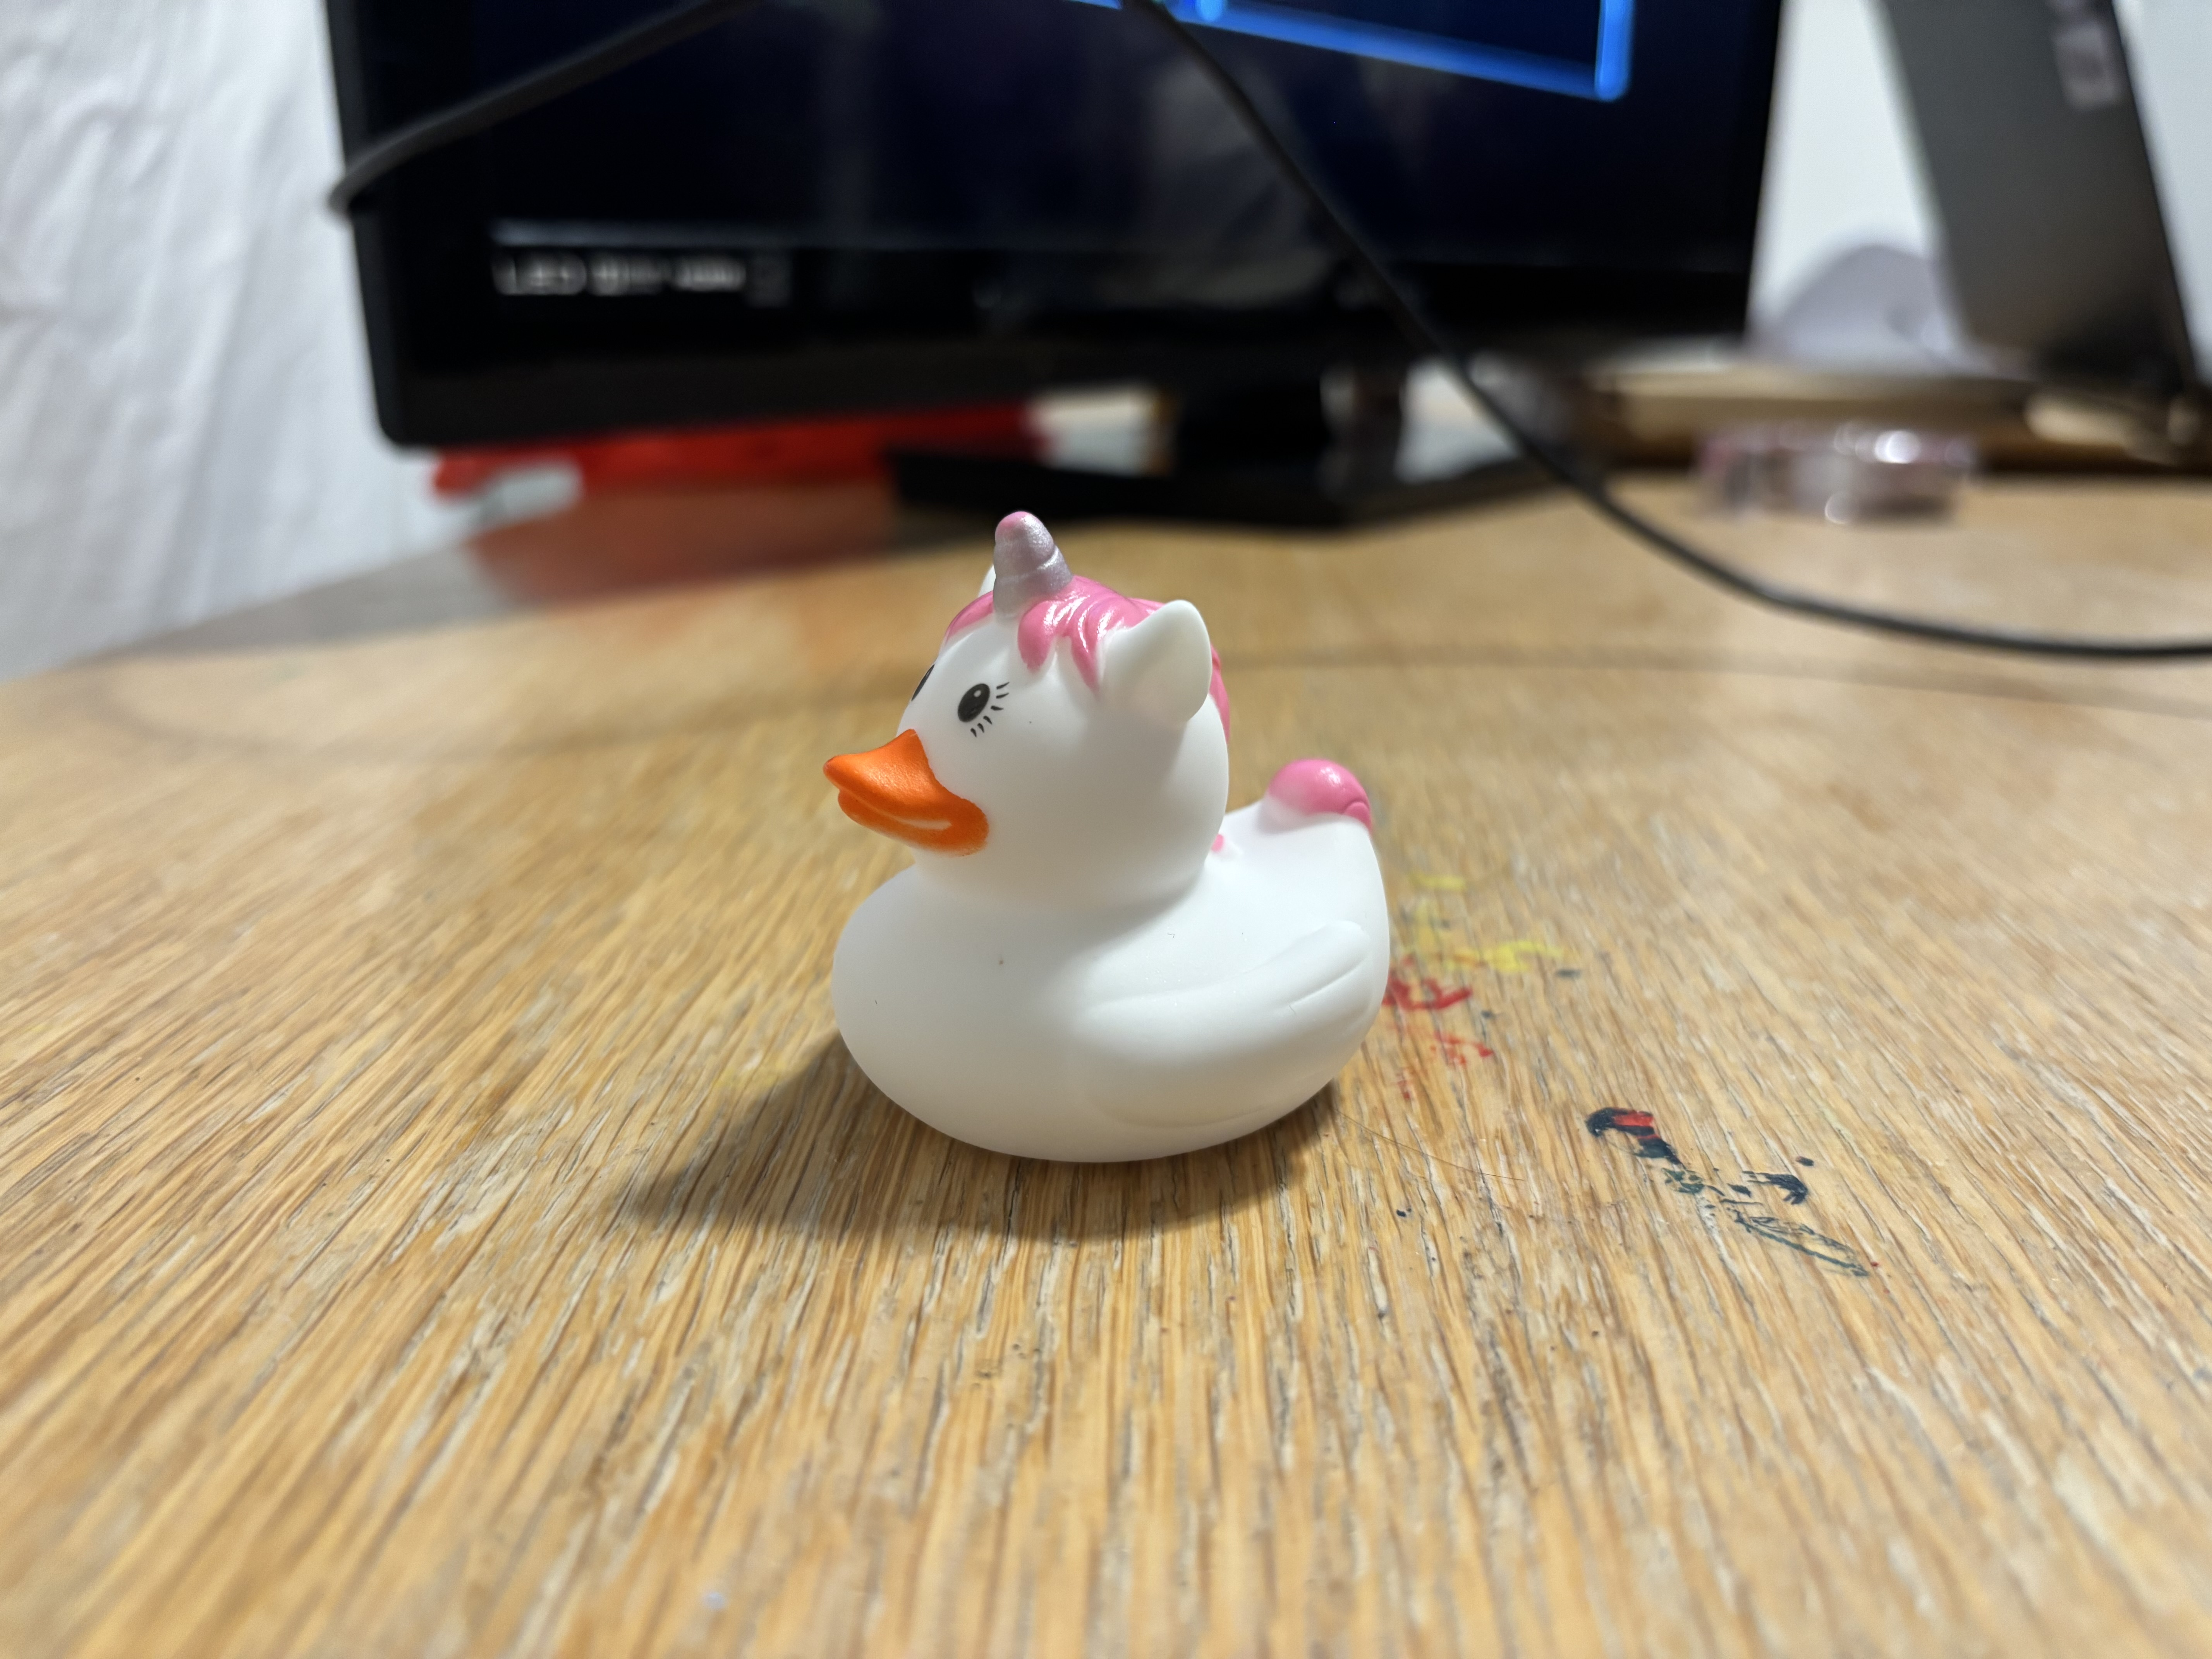Ducks (Specialty): (829, 505, 1393, 1141)
